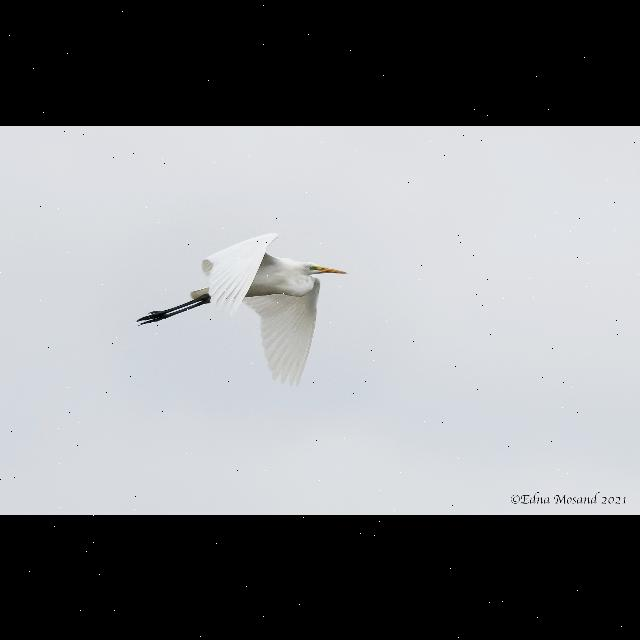egret: (134, 226, 350, 388)
